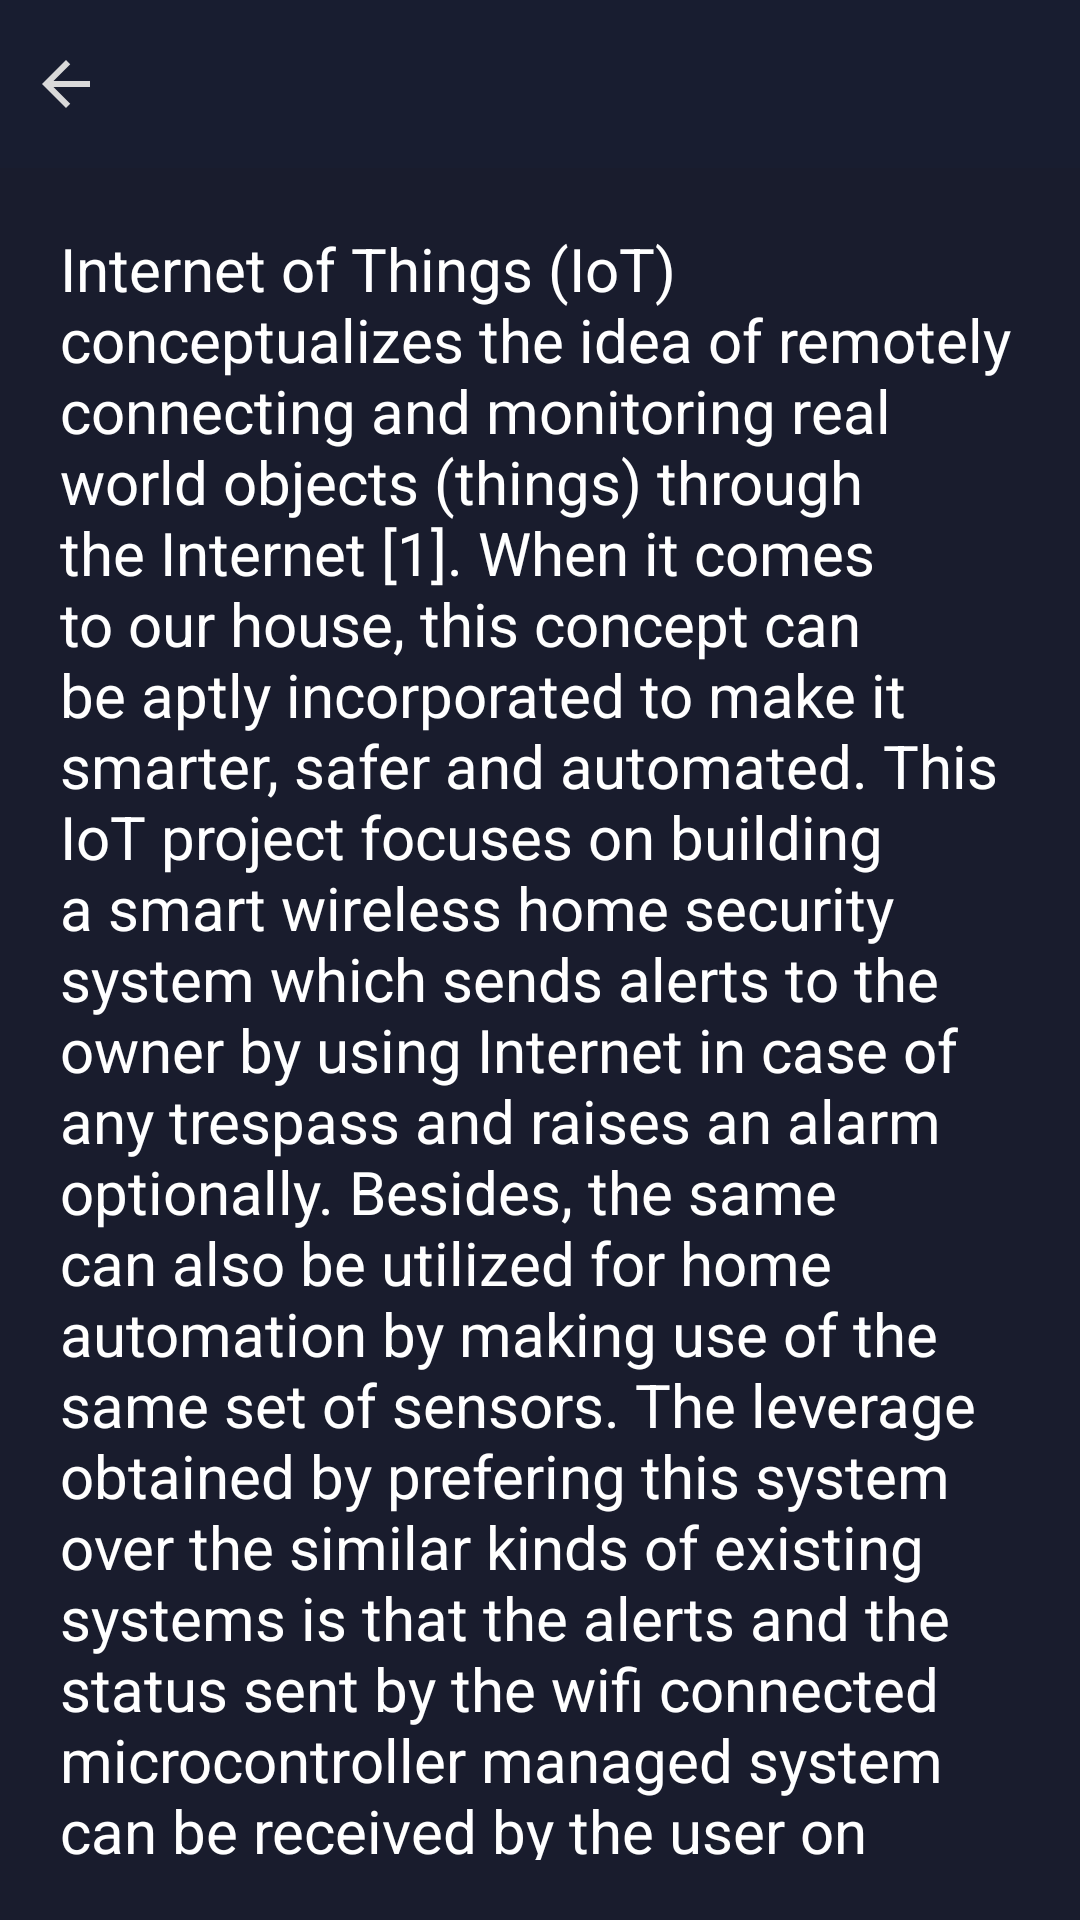

Locate icon controls on the screen. Image size 1080w x 1920h, boxes as (x1, y1, x2, y2).
arrow back: (42, 60, 90, 108)
